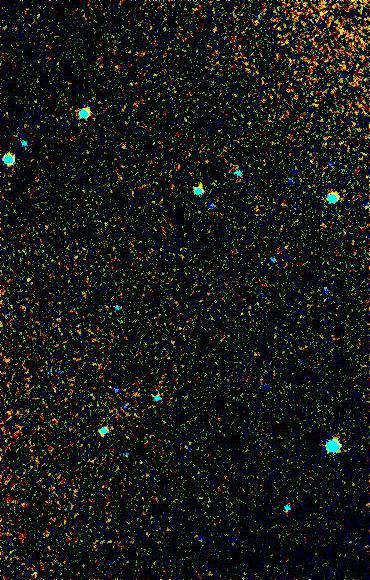star: (16, 266, 46, 296)
